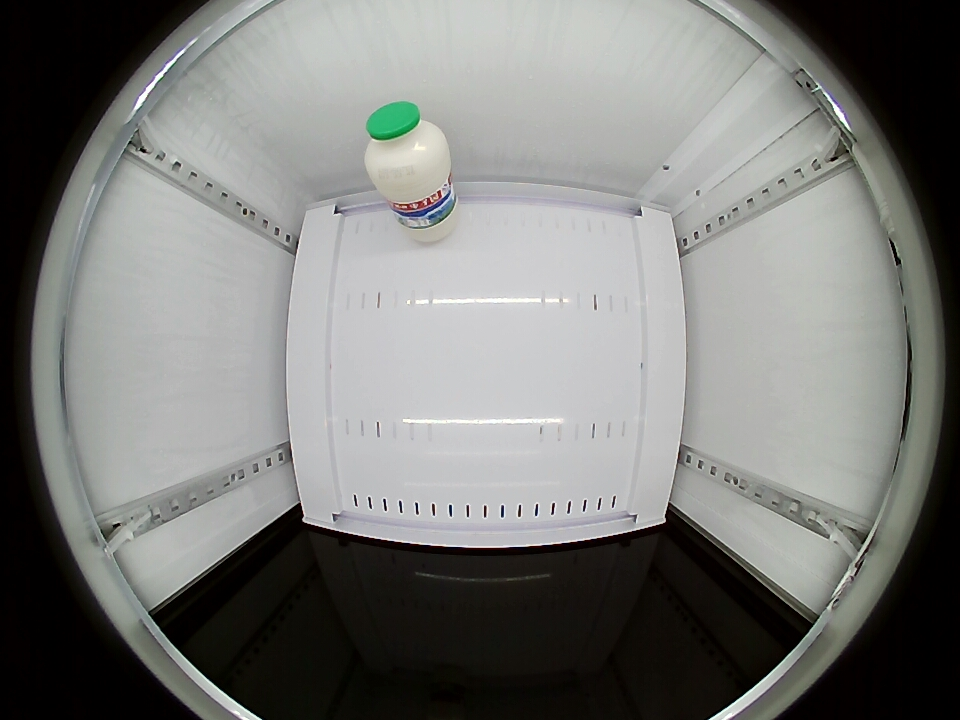liziyuan: (364, 100, 452, 204)
